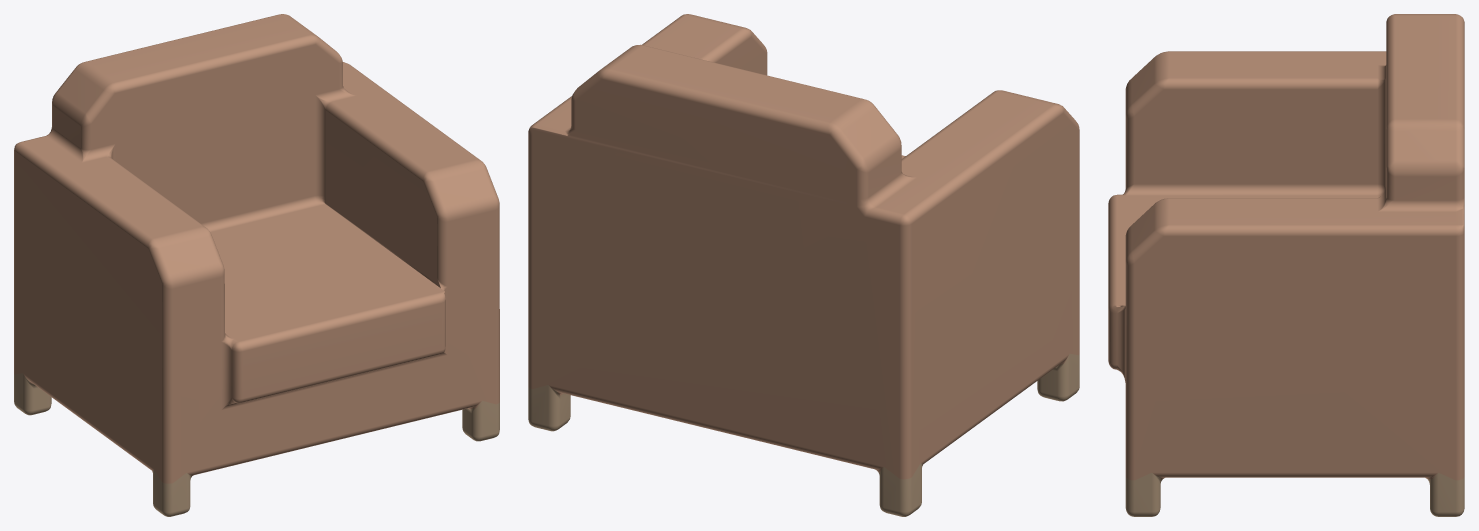
File: loungeChair.glb
3 renders of one model, left to right at view 1: azimuth 30°, elevation 25°; view 2: azimuth 150°, elevation 25°; view 3: azimuth 270°, elevation 25°, orthographic. The views are drawn at different scales.
Visible parts, largest first — view 1: loungeChair(Clone); view 2: loungeChair(Clone); view 3: loungeChair(Clone).
Part boxes in pixels (box(x1,y1,x2,y2)): loungeChair(Clone): box(14, 14, 499, 516); loungeChair(Clone): box(528, 14, 1079, 516); loungeChair(Clone): box(1108, 14, 1464, 516).
Size of the model in its own units: 0.49 by 0.46 by 0.41.
